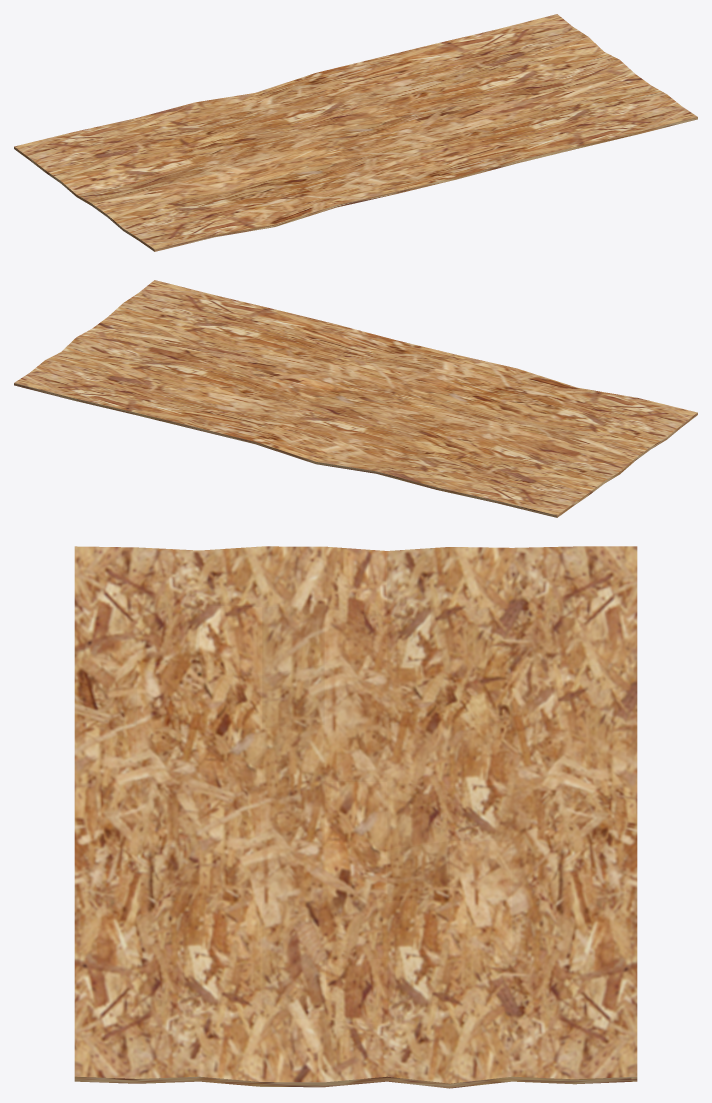
Rendered from plywood.obj.
3 views of the same model, one above another, from view 1: azimuth 30°, elevation 25°; view 2: azimuth 150°, elevation 25°; view 3: azimuth 270°, elevation 25° (orthographic). The views are drawn at different scales.
Visible parts, largest first — view 1: Grid; view 2: Grid; view 3: Grid.
Boxes of the visible parts, left/top/right/bottom form: Grid: left=14, top=14, right=697, bottom=251; Grid: left=14, top=280, right=697, bottom=517; Grid: left=74, top=546, right=637, bottom=1088.
Size of the model in its own units: 8.25 by 0.1134 by 3.7.
